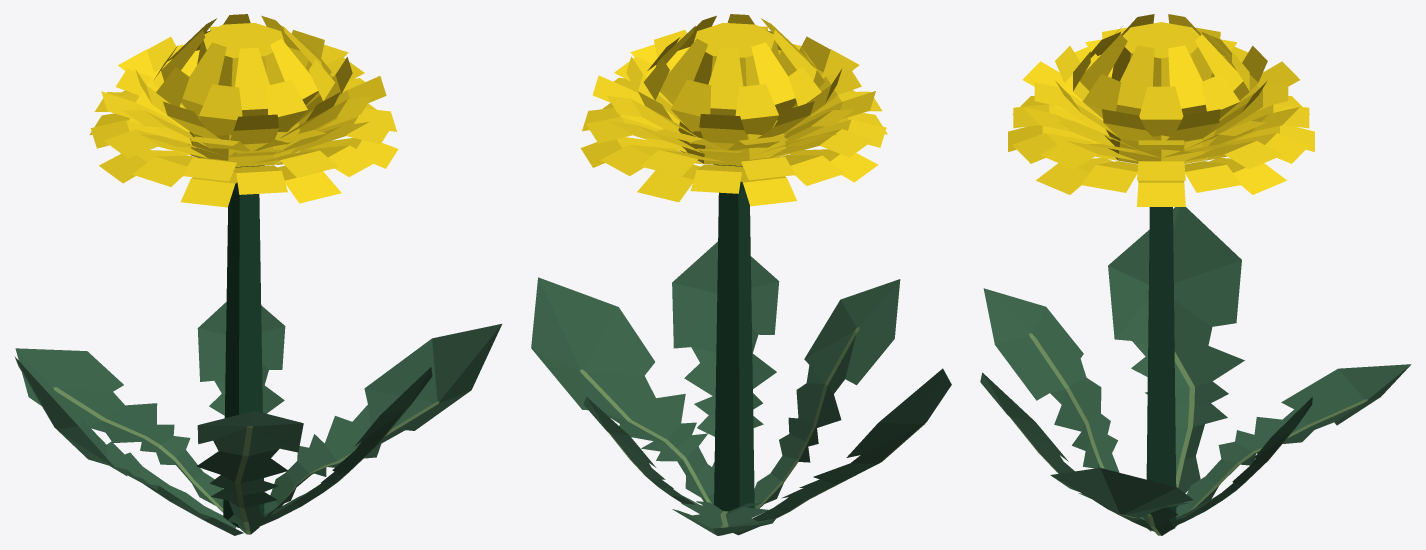
The model's file is Dandelion.fbx.
The picture shows the model from 3 angles, left to right: view 1: azimuth 30°, elevation 25°; view 2: azimuth 150°, elevation 25°; view 3: azimuth 270°, elevation 25°; orthographic projection.
Visible parts, largest first — view 1: Dandelion_LOD0; view 2: Dandelion_LOD0; view 3: Dandelion_LOD0.
Part boxes in pixels (bbox=[...]): Dandelion_LOD0: bbox=[14, 14, 501, 535]; Dandelion_LOD0: bbox=[531, 14, 951, 535]; Dandelion_LOD0: bbox=[980, 14, 1411, 535].
Size of what is drawn, in the model's own units: 183 by 196 by 153.
